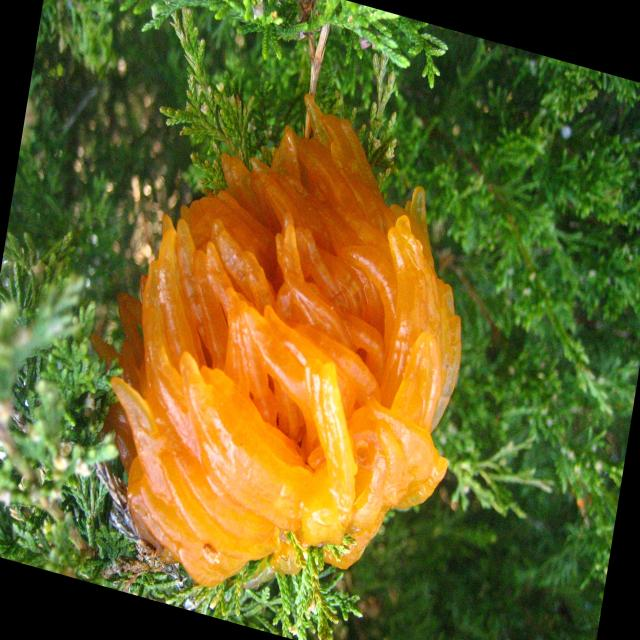Chlorosis: (98, 93, 463, 590)
